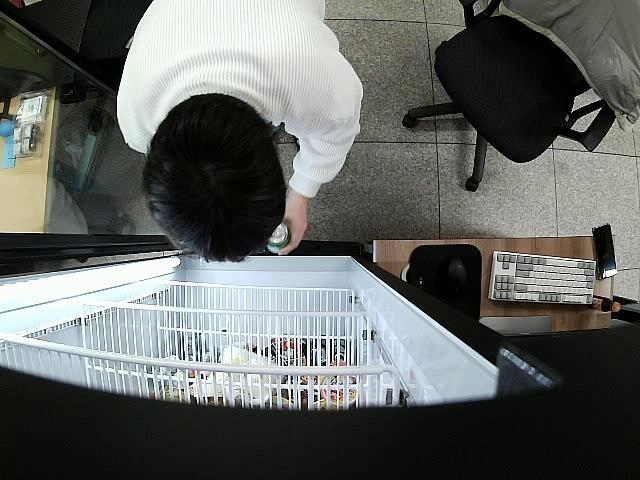12_chilsungCider: (266, 223, 291, 254)
